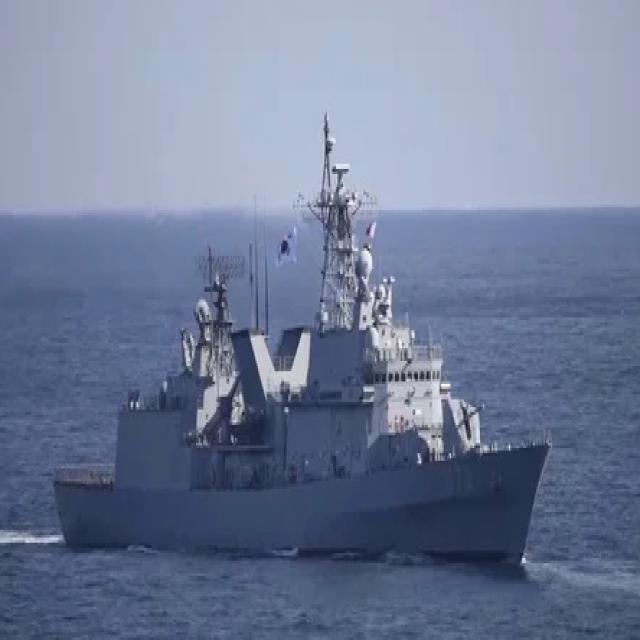navalvessels: (42, 120, 549, 570)
